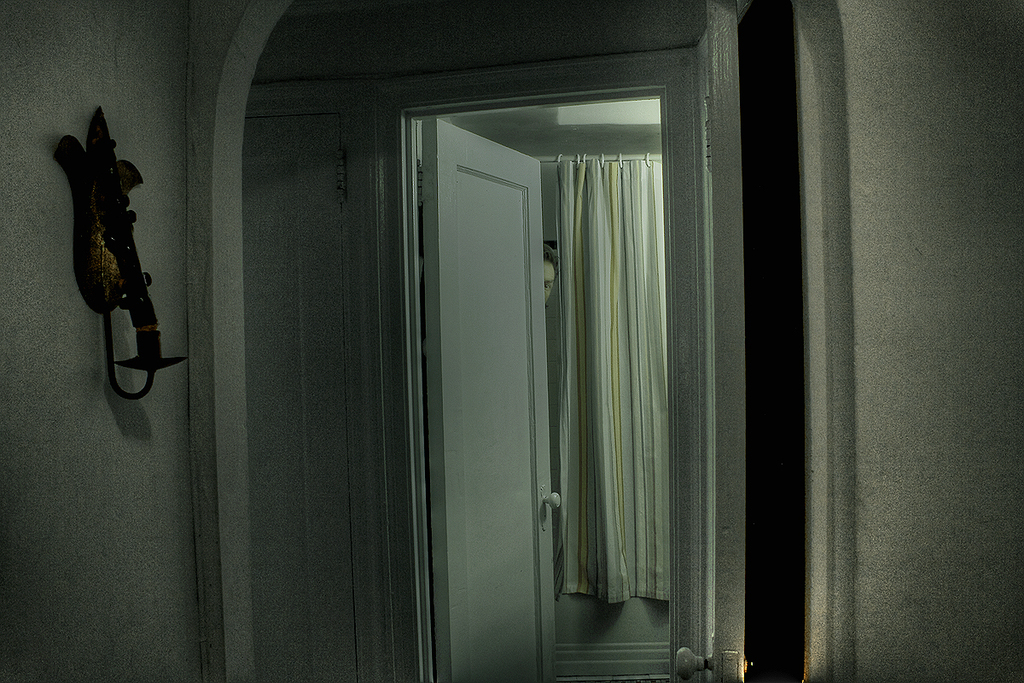door: (418, 115, 543, 683), (246, 130, 358, 682), (685, 51, 750, 674)
handle: (674, 639, 714, 683), (530, 484, 561, 527)
